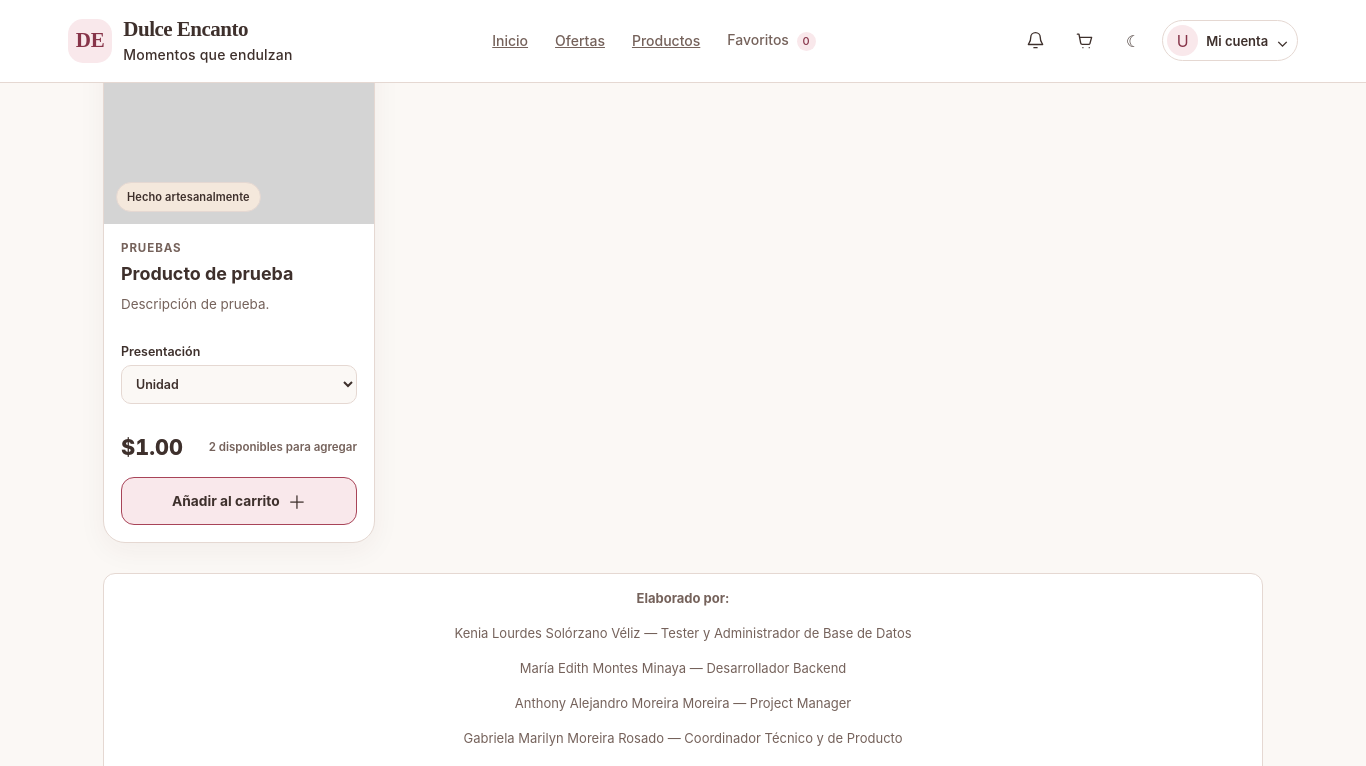
Test: Casos límite del catálogo › permite seleccionar otra variante y actualiza precio y existencias
The image size is (1366, 766).
(page scrolled)
Expected: the element "Producto de prueba" is shown, [103, 6, 375, 543]
Expected: the text "$1.00" is shown, [121, 434, 183, 460]
Select "Paquete" in the dropdown named "Presentación de Producto de prueba" at (239, 384), box [121, 365, 357, 404]
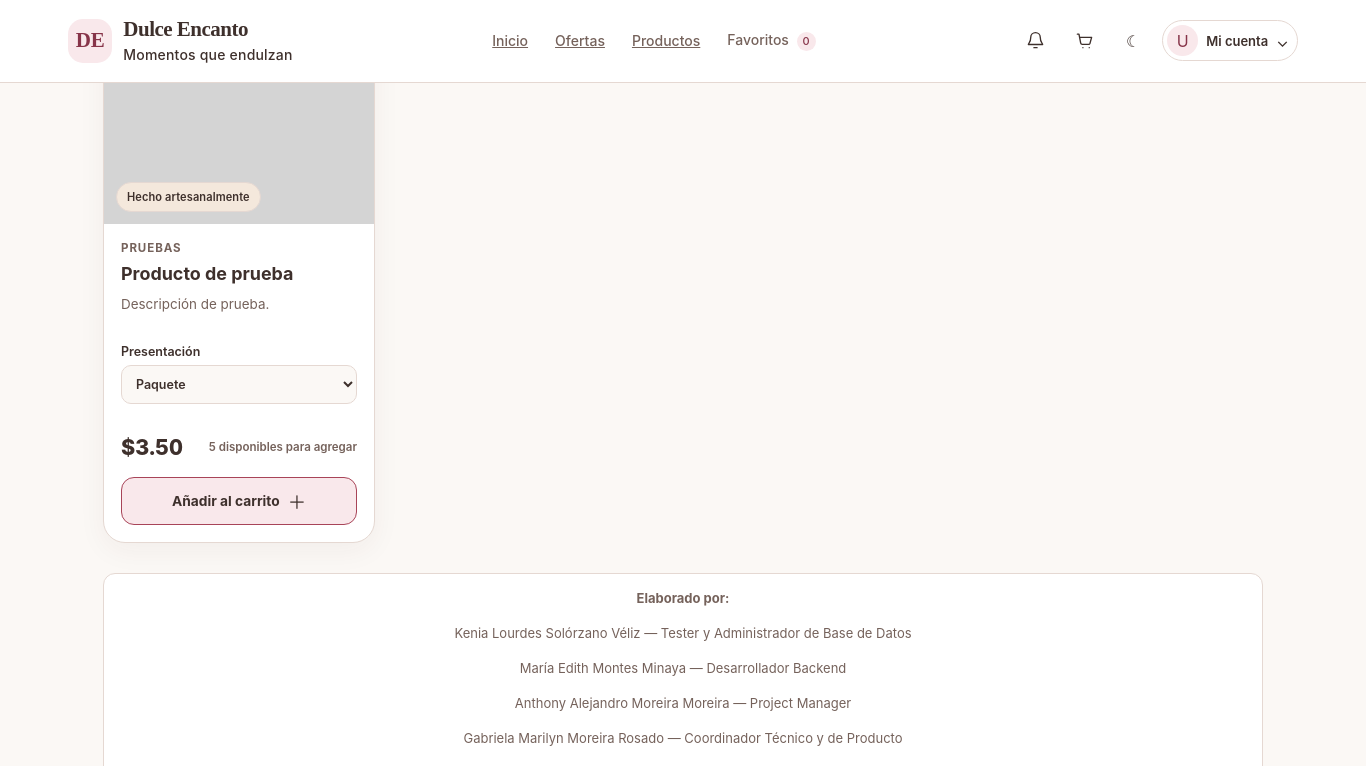
Expected: the text "$3.50" is shown, [121, 434, 183, 460]
Expected: the text "5 disponibles para agregar" is shown, [209, 440, 357, 454]
Click the button with aria-label "Agregar Producto de prueba al carrito".
click(239, 501)  # box [121, 477, 357, 525]
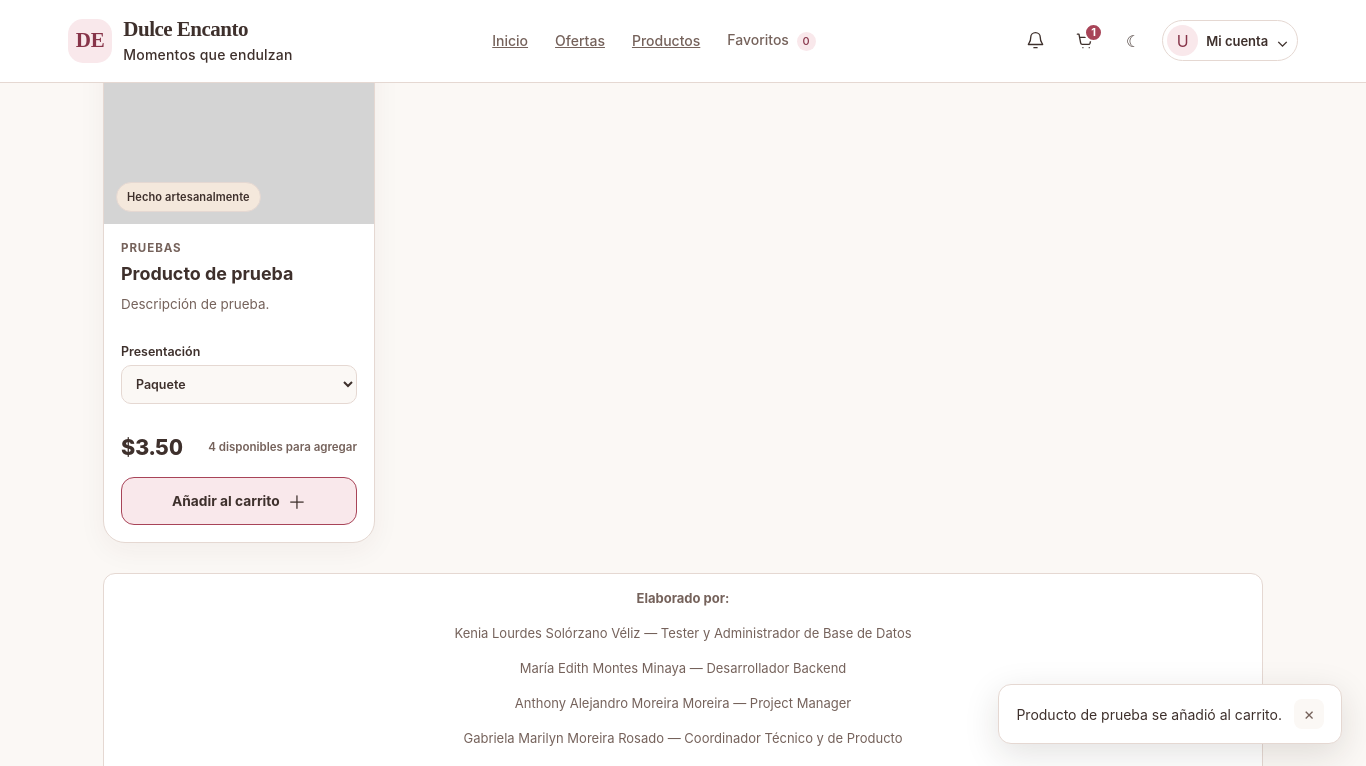
Expected: the button named "Carrito, 1 productos" is shown, [1064, 21, 1104, 61]
